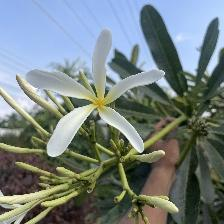champaka: (26, 28, 168, 161)
